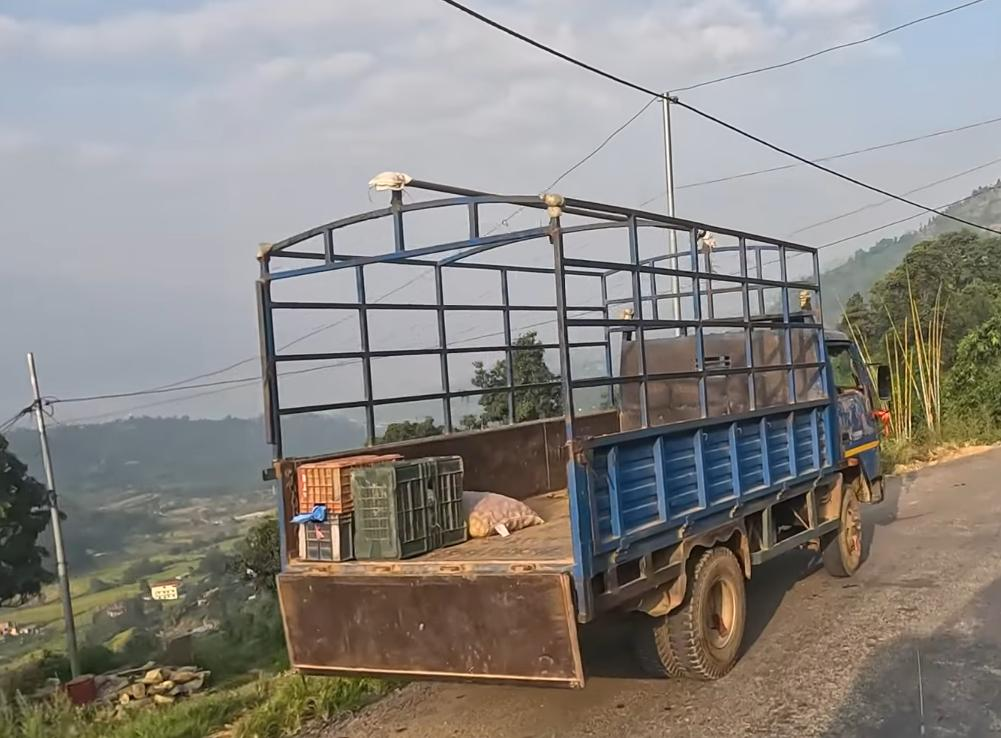mini_truck: (239, 168, 897, 694)
